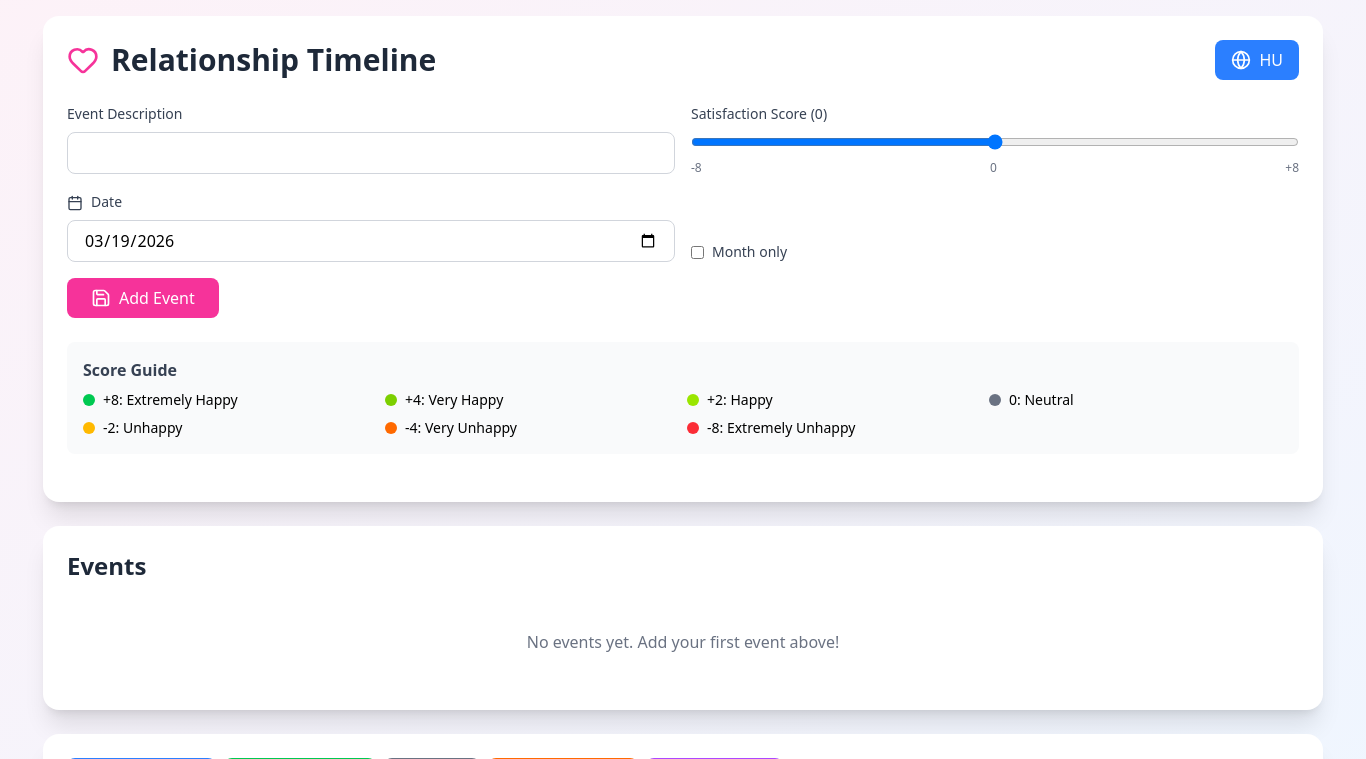
Test case: RelationshipTimeline Component › Adding Events › should add a new event when form is submitted
Type "First date" into the field labelled "Event Description" at (371, 153), box [67,132,675,174]
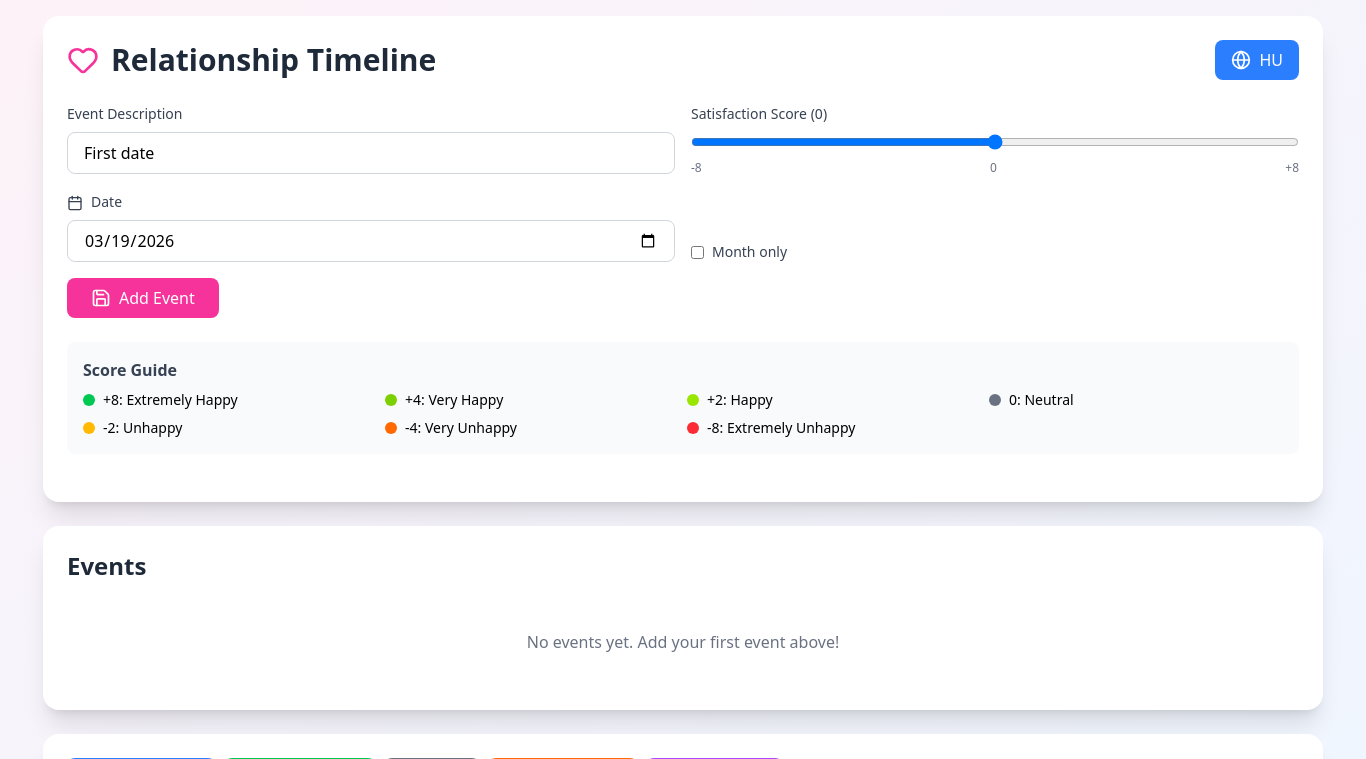
Set the slider labelled "Satisfaction Score (0)" to "7" at (1254, 142), box [691,134,1299,150]
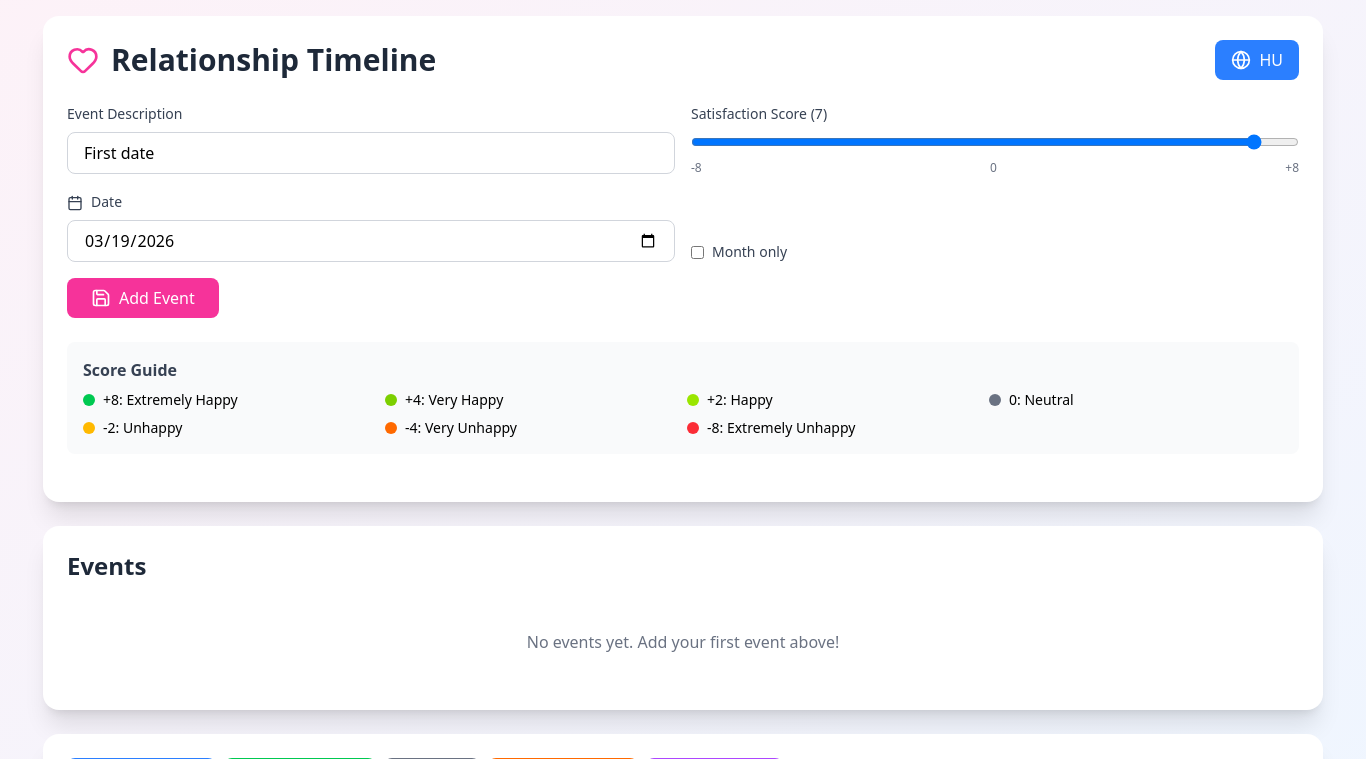
Click the button "Add Event" at (143, 298), box [67,278,219,318]
(page scrolled)
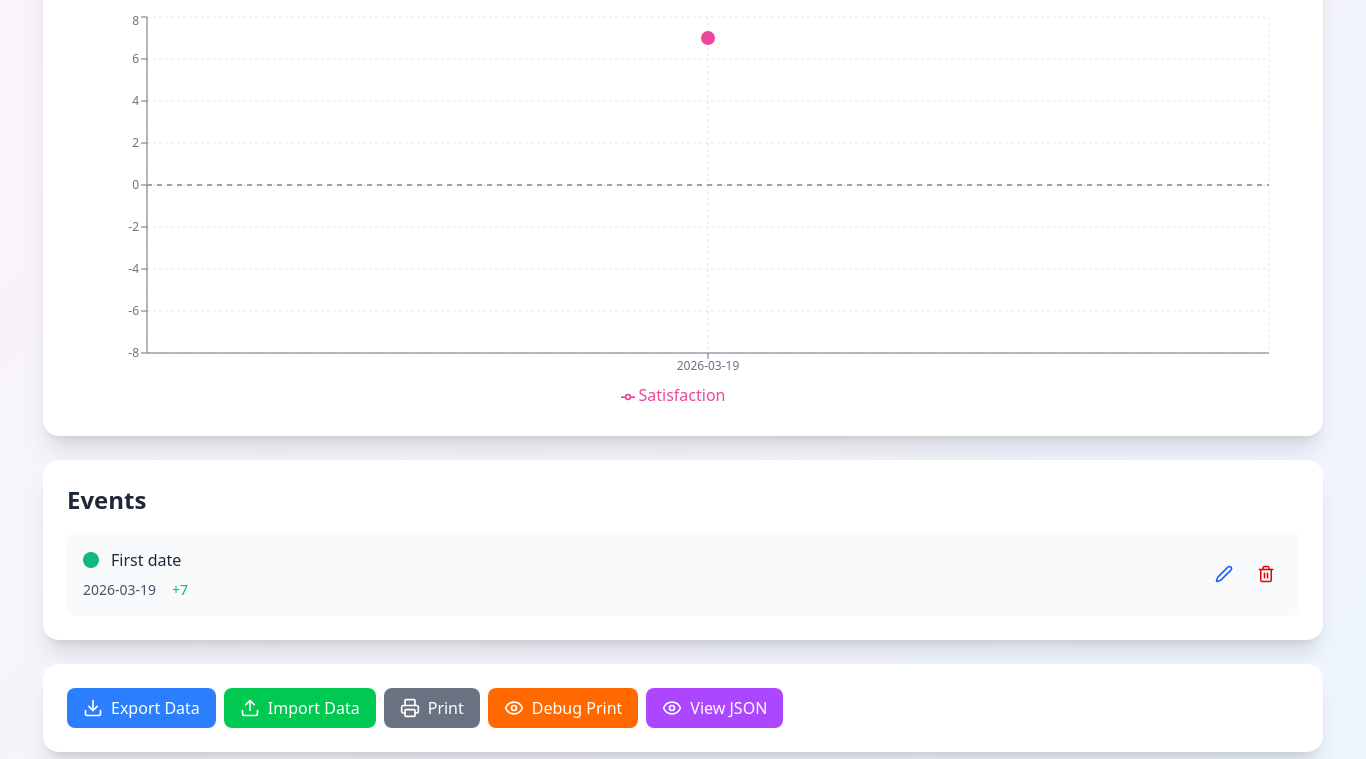
Result: the text "First date" is shown at [111,548,181,572]
Result: the text "+7" is shown at [172,580,188,600]
